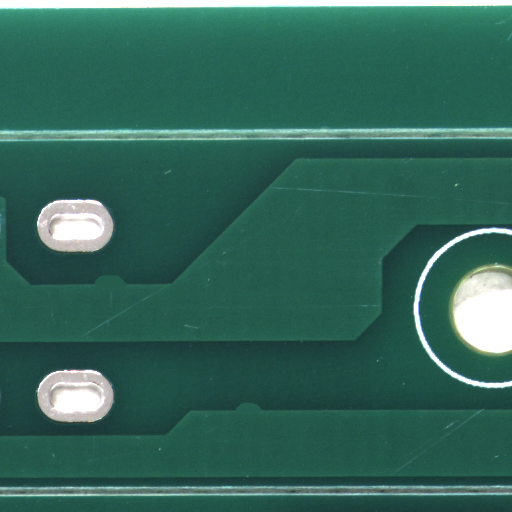Spur: (108, 280, 143, 294), (248, 407, 278, 418)
